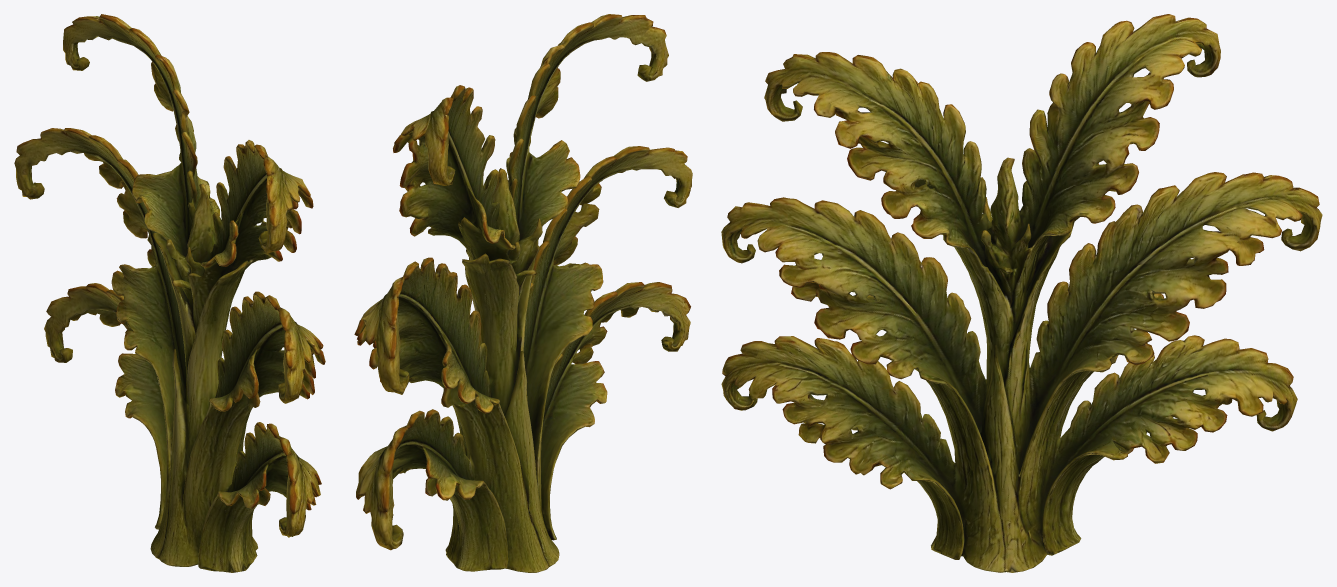
The model's file is ornamental+plant+3d+model+1k-2.glb.
3 renders of one model, left to right at view 1: azimuth 30°, elevation 25°; view 2: azimuth 150°, elevation 25°; view 3: azimuth 270°, elevation 25°, orthographic. The views are drawn at different scales.
Parts seen in each view (by area): view 1: tripo_node_1323eca1-ce16-4ac5-95a5-304feafa95f4; view 2: tripo_node_1323eca1-ce16-4ac5-95a5-304feafa95f4; view 3: tripo_node_1323eca1-ce16-4ac5-95a5-304feafa95f4.
Boxes of the visible parts, <box> form: tripo_node_1323eca1-ce16-4ac5-95a5-304feafa95f4: <box>14,14,325,572</box>; tripo_node_1323eca1-ce16-4ac5-95a5-304feafa95f4: <box>354,14,692,572</box>; tripo_node_1323eca1-ce16-4ac5-95a5-304feafa95f4: <box>721,14,1322,572</box>.
Bounding box in the file's own units: 0.1978 × 0.9578 × 1.
Materials: 1 (1 with a texture image).
